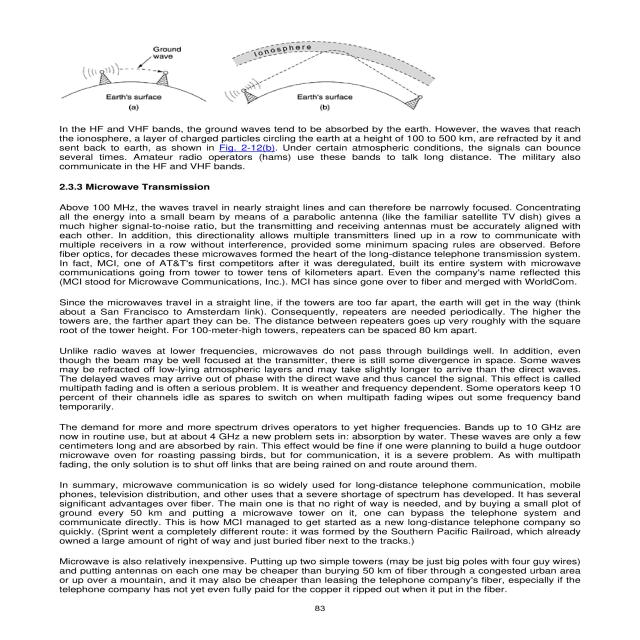diagram: (49, 28, 530, 120)
